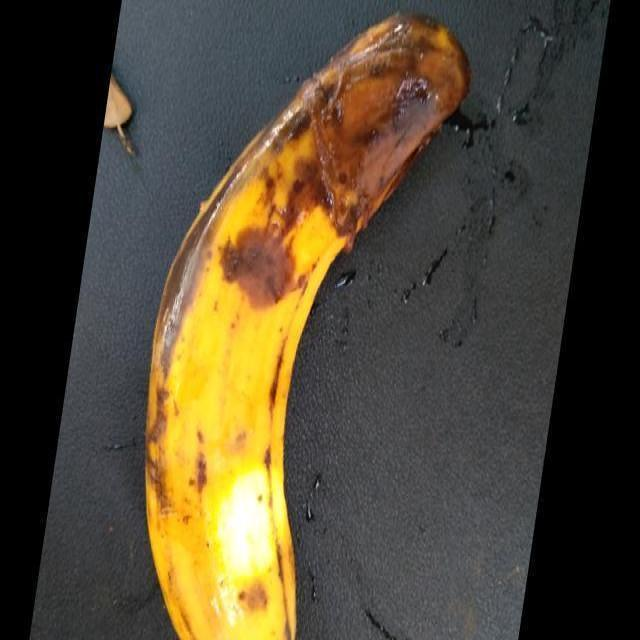Podre: (141, 9, 472, 639)
